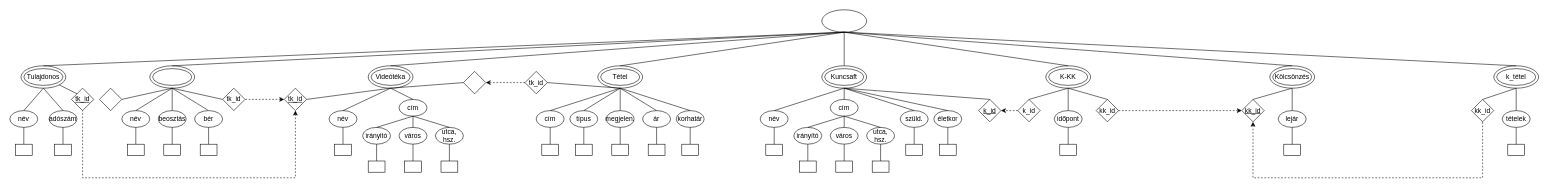
The diagram is 1548 pixels wide and 192 high, and some of its shapes have lost their labels. The centre of each missing label's shape, as x and y in pixels:
"d_id" belongs at (x=110, y=99).
"Dolgozó" belongs at (x=172, y=76).
"rk_id" belongs at (x=474, y=82).
"root" belongs at (x=844, y=20).
